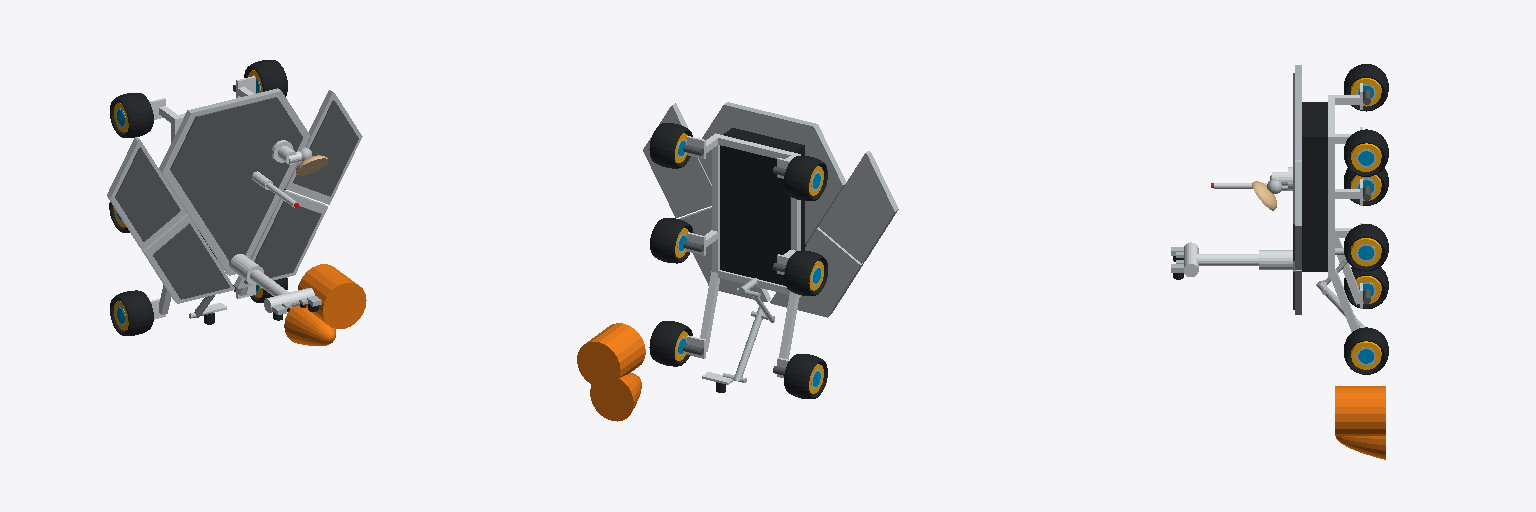
Rendered from tinker.obj.
The picture shows the model from 3 angles: view 1: azimuth 30°, elevation 25°; view 2: azimuth 150°, elevation 25°; view 3: azimuth 270°, elevation 25°; orthographic projection.
Visible parts, largest first — view 1: obj_0; view 2: obj_0; view 3: obj_0.
Boxes of the visible parts, box(x1,y1,x2,y2) form: obj_0: box(107, 60, 366, 345); obj_0: box(577, 102, 898, 421); obj_0: box(1171, 64, 1388, 459).
Size of the model in its own units: 126 by 132 by 86.27.